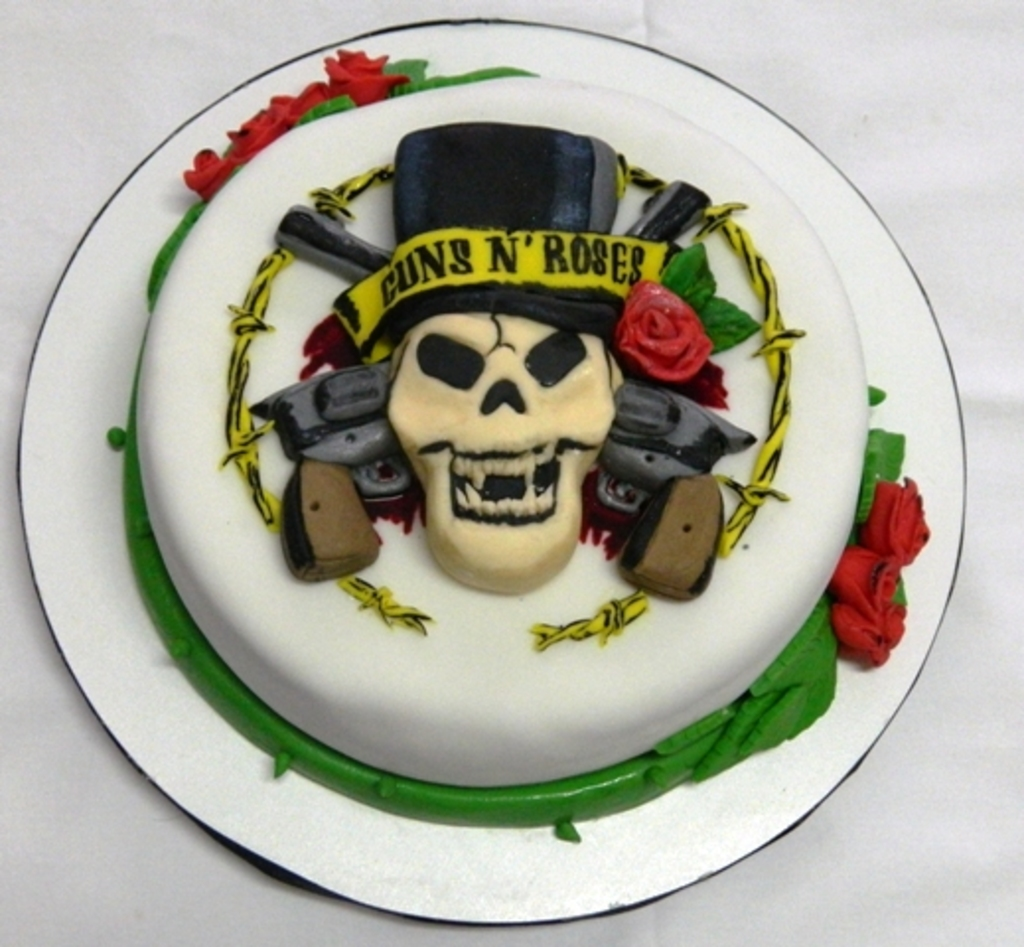plate: (47, 41, 974, 818)
